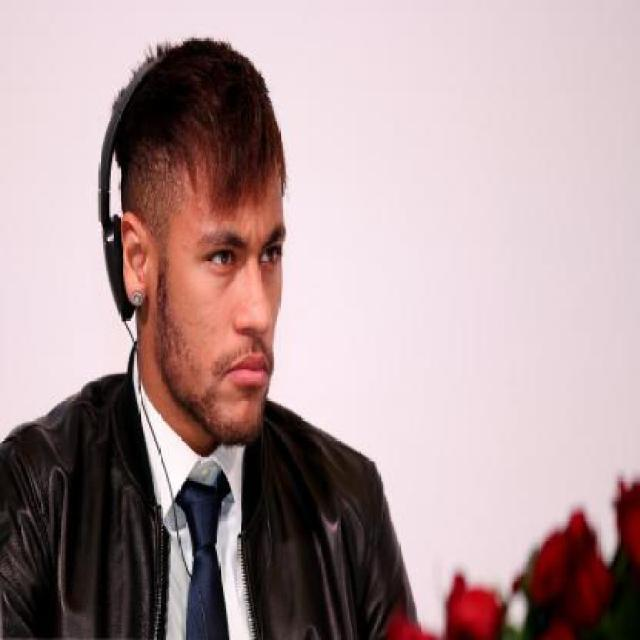earphone: (82, 25, 218, 355)
